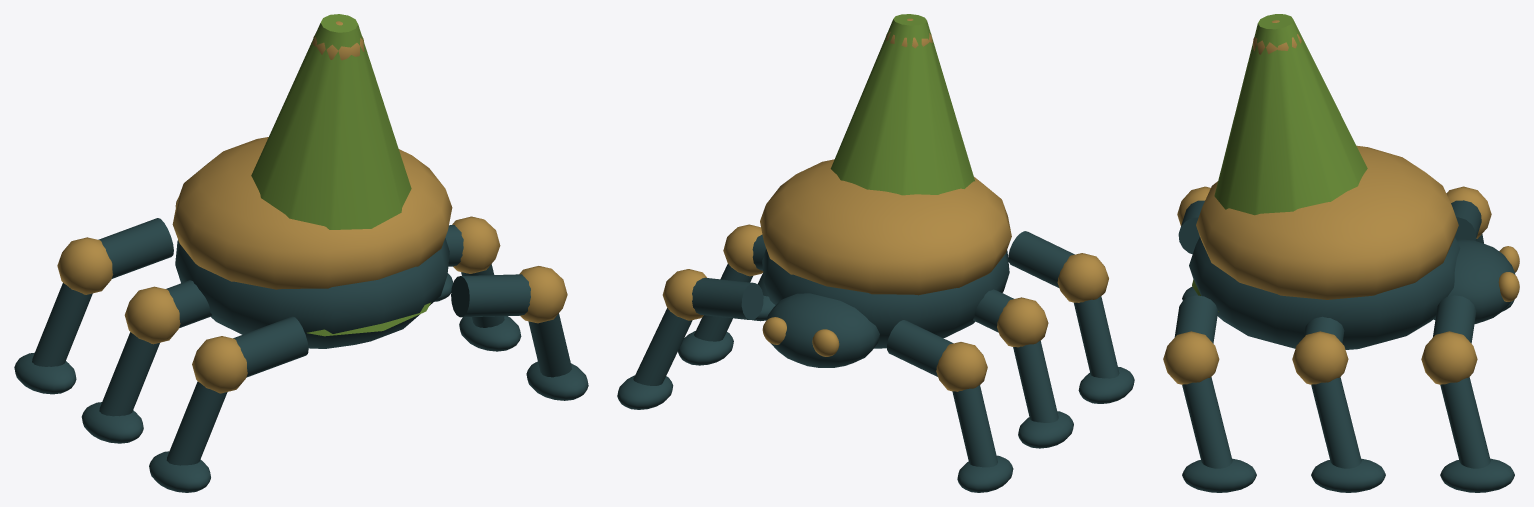
File: sentinel.glb
3 views of the same model, side by side, from view 1: azimuth 30°, elevation 25°; view 2: azimuth 150°, elevation 25°; view 3: azimuth 270°, elevation 25° (orthographic). The views are drawn at different scales.
Visible parts, largest first — view 1: rigid-284548 (×6), rigid-ab8642 (×6), rigid-688d35; view 2: rigid-284548 (×6), rigid-ab8642 (×6), rigid-688d35; view 3: rigid-284548 (×6), rigid-ab8642 (×6), rigid-688d35.
Part boxes in pixels (box(x1,y1,x2,y2)): rigid-284548 (×6): box(14, 218, 588, 492); rigid-ab8642 (×6): box(57, 21, 567, 393); rigid-688d35: box(251, 14, 430, 336); rigid-284548 (×6): box(617, 231, 1134, 492); rigid-ab8642 (×6): box(662, 18, 1108, 391); rigid-688d35: box(830, 14, 974, 195); rigid-284548 (×6): box(1174, 200, 1515, 492); rigid-ab8642 (×6): box(1163, 20, 1519, 384); rigid-688d35: box(1192, 14, 1367, 311).
Bounding box in the file's own units: 2.01 × 1.79 × 1.52.
